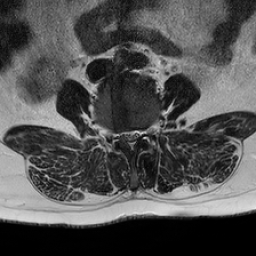CCS_normal: (126, 122, 133, 155)
LFS_stenosis: (140, 120, 147, 144)
LLS_normal: (133, 121, 140, 147)
RFS_stenosis: (112, 123, 120, 148)
RLS_stenosis: (118, 123, 126, 144)
